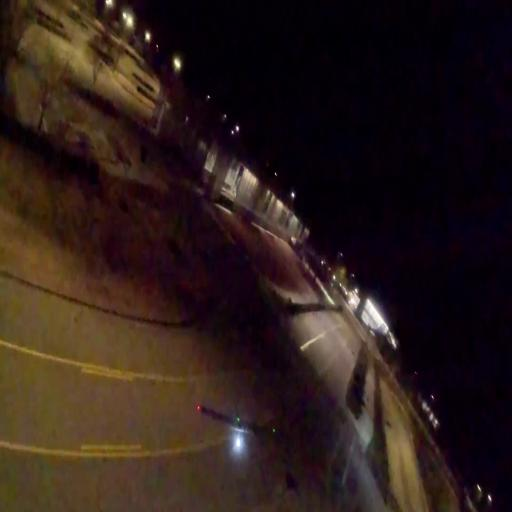uav: (190, 398, 292, 460)
